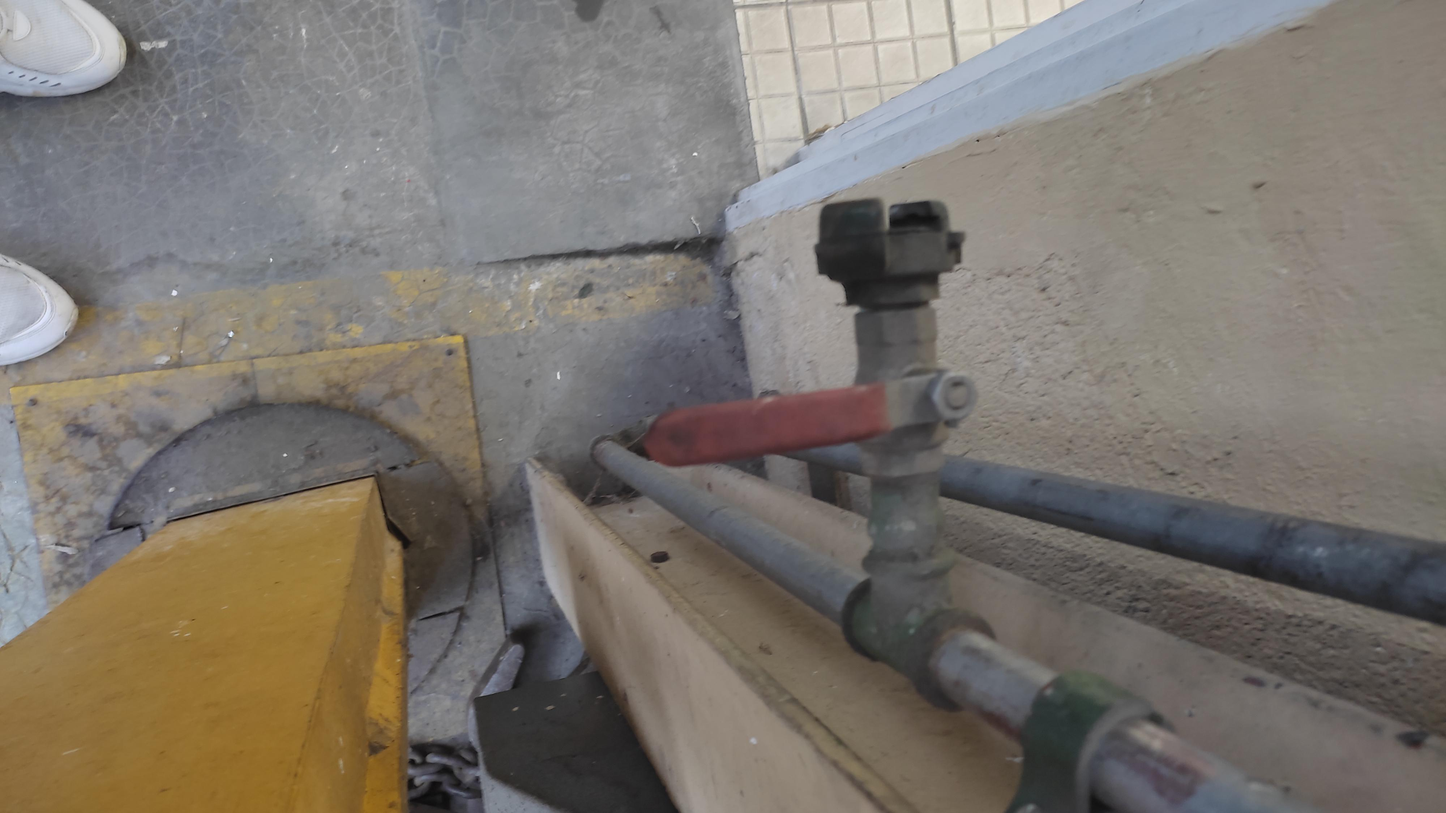closed valve: (639, 297, 981, 487)
